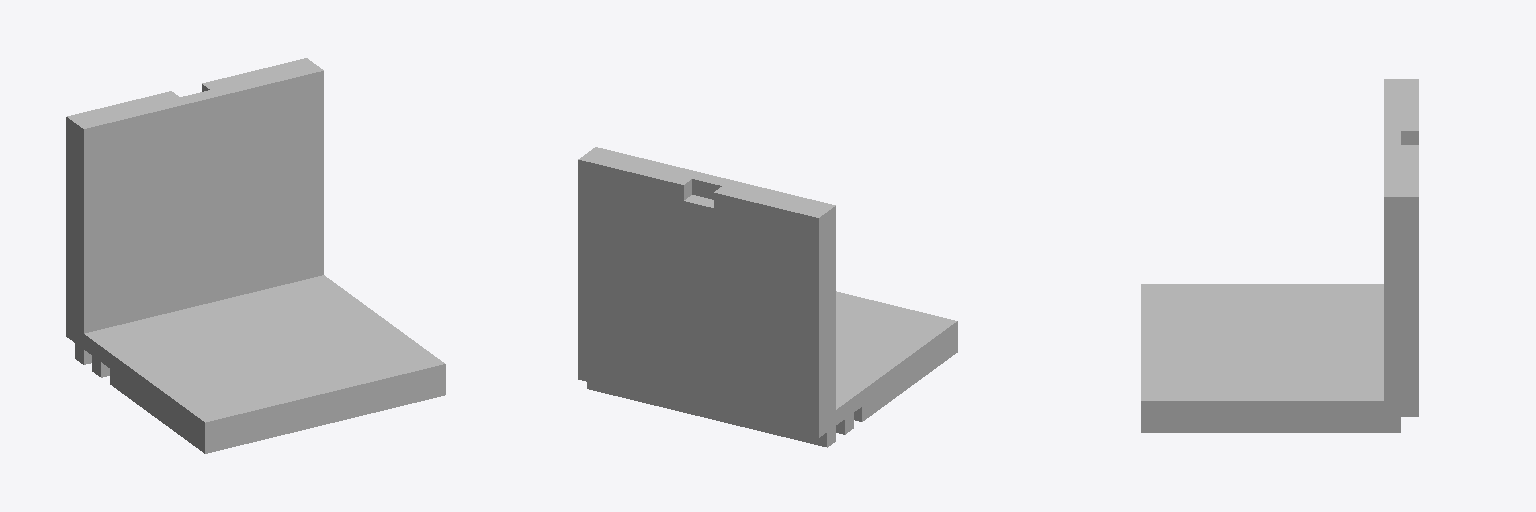
Rendered from tabletop0.obj.
3 renders of one model, left to right at view 1: azimuth 30°, elevation 25°; view 2: azimuth 150°, elevation 25°; view 3: azimuth 270°, elevation 25°, orthographic.
Size of the model in its own units: 0.8 by 0.75 by 0.8.